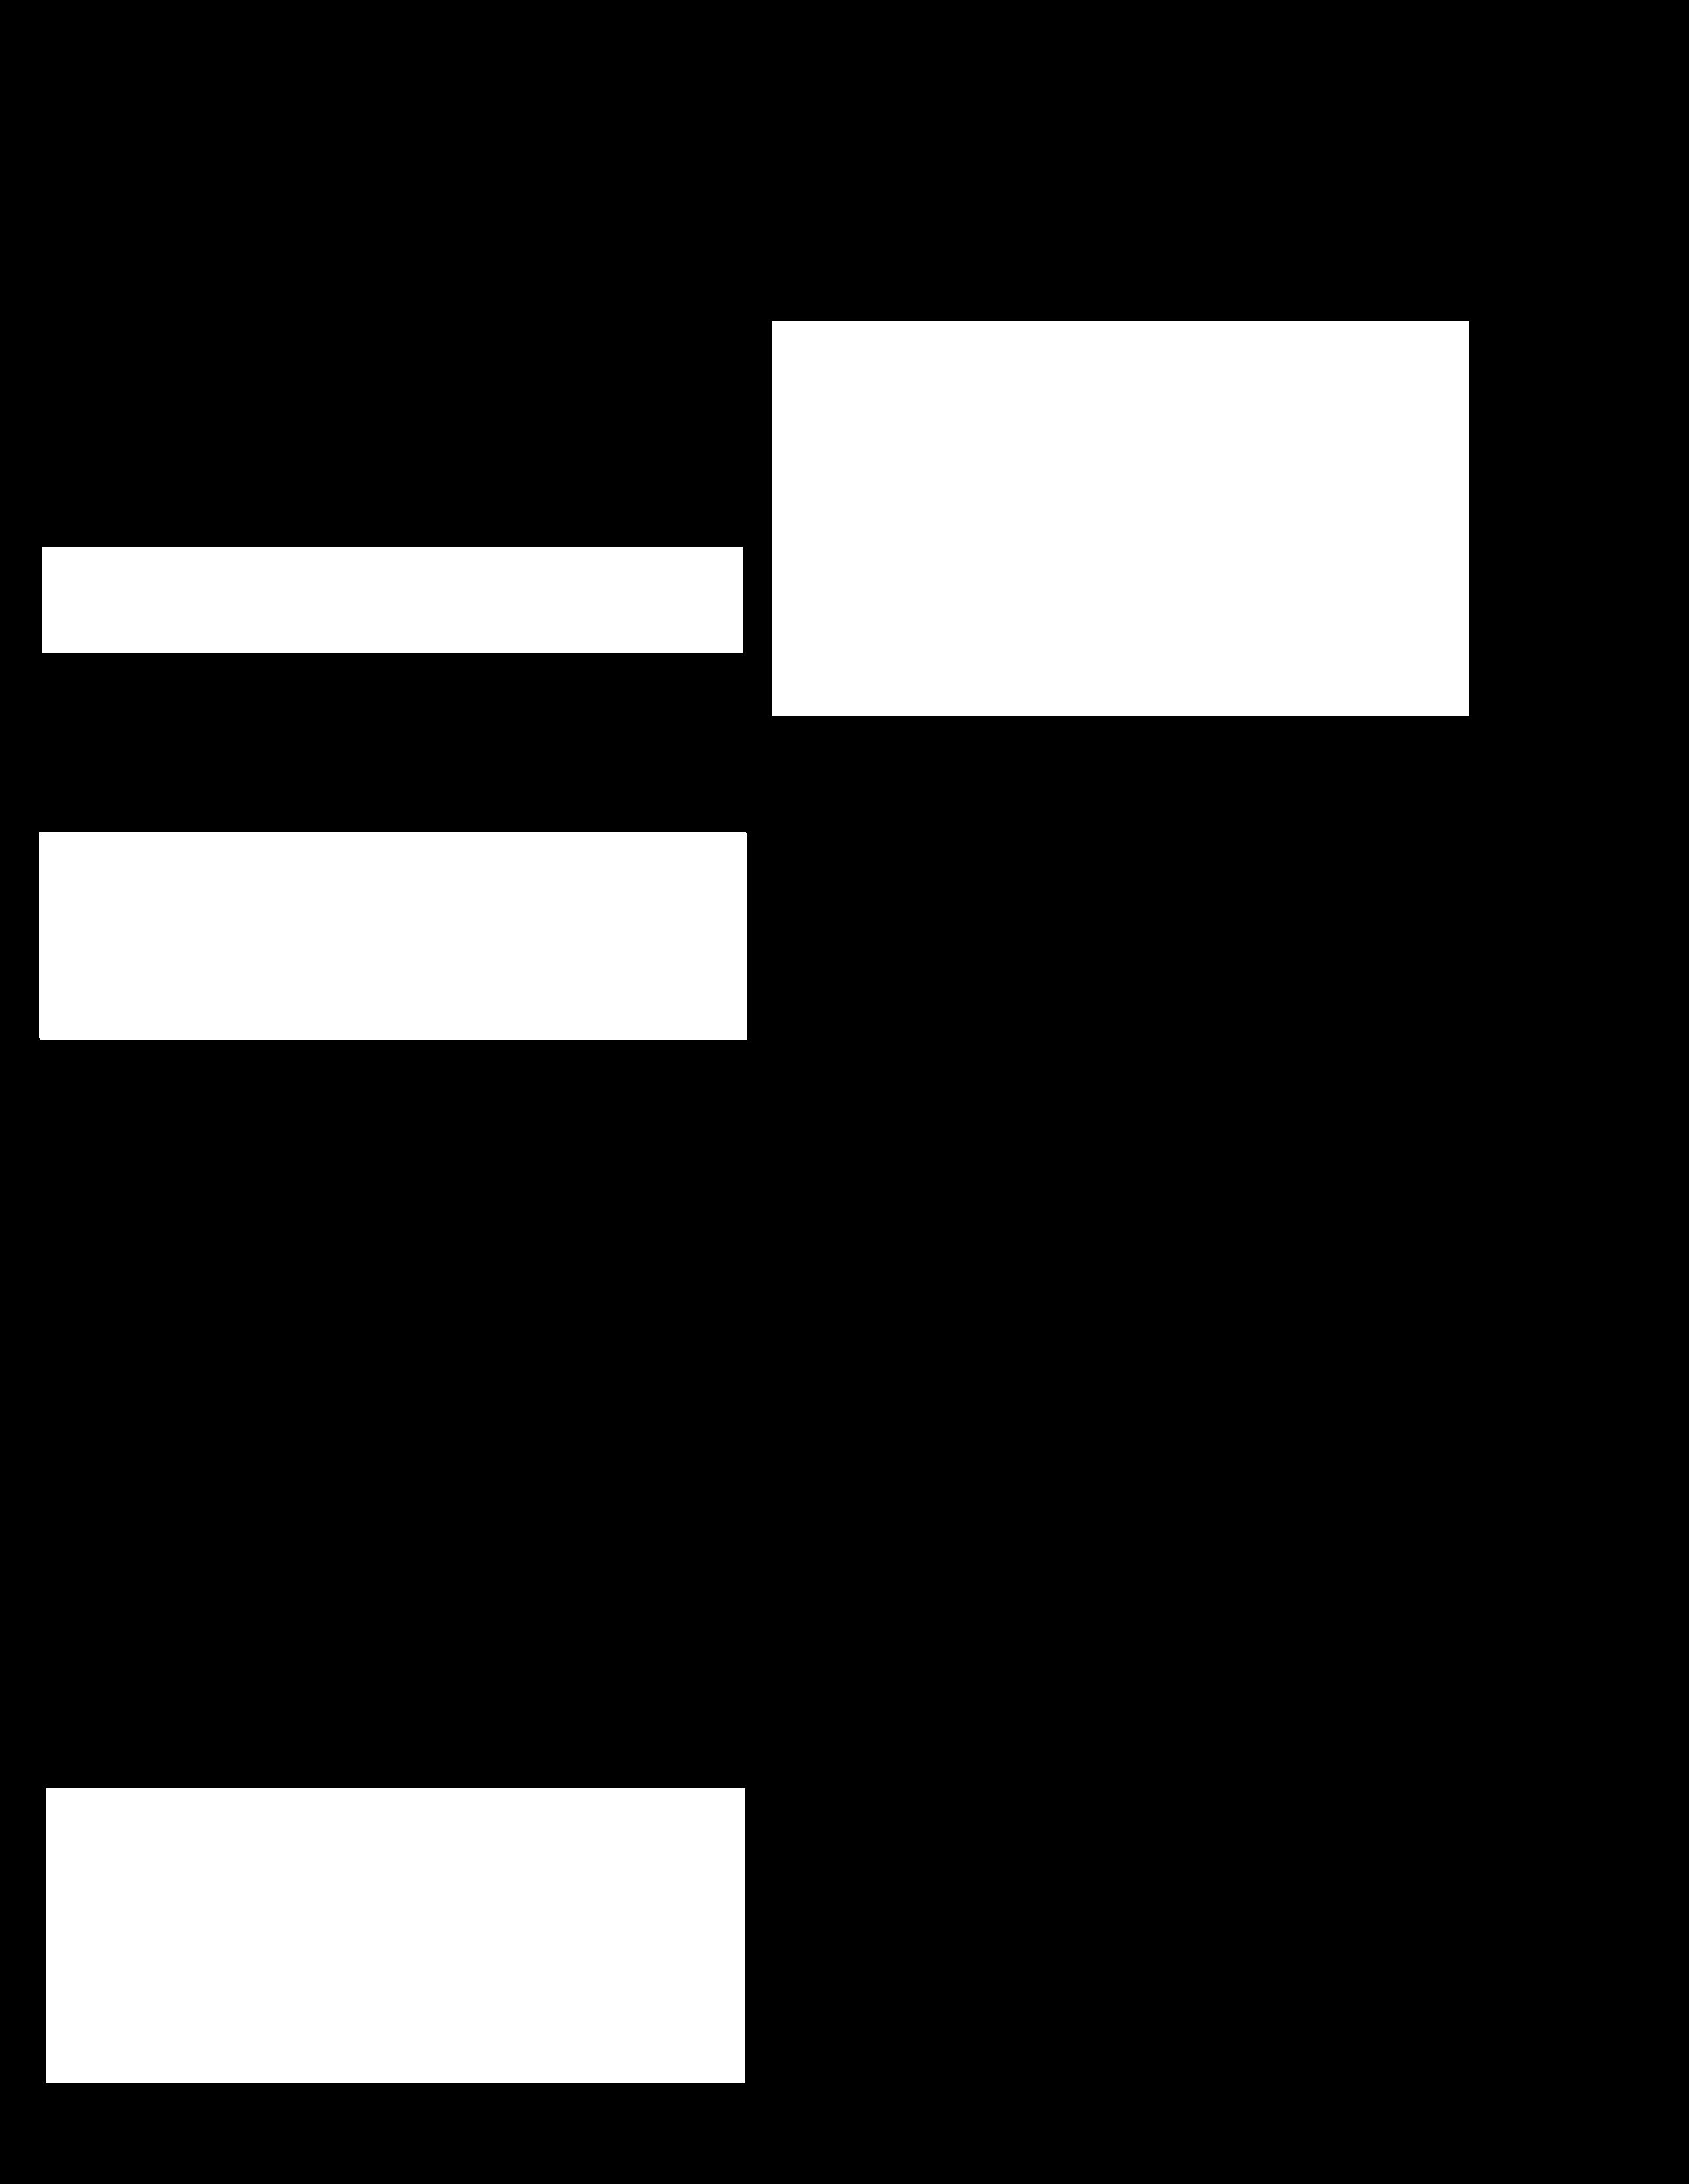table: (771, 321, 1469, 716), (46, 1787, 744, 2083), (41, 833, 746, 1039), (39, 831, 744, 1037), (43, 546, 743, 652)
